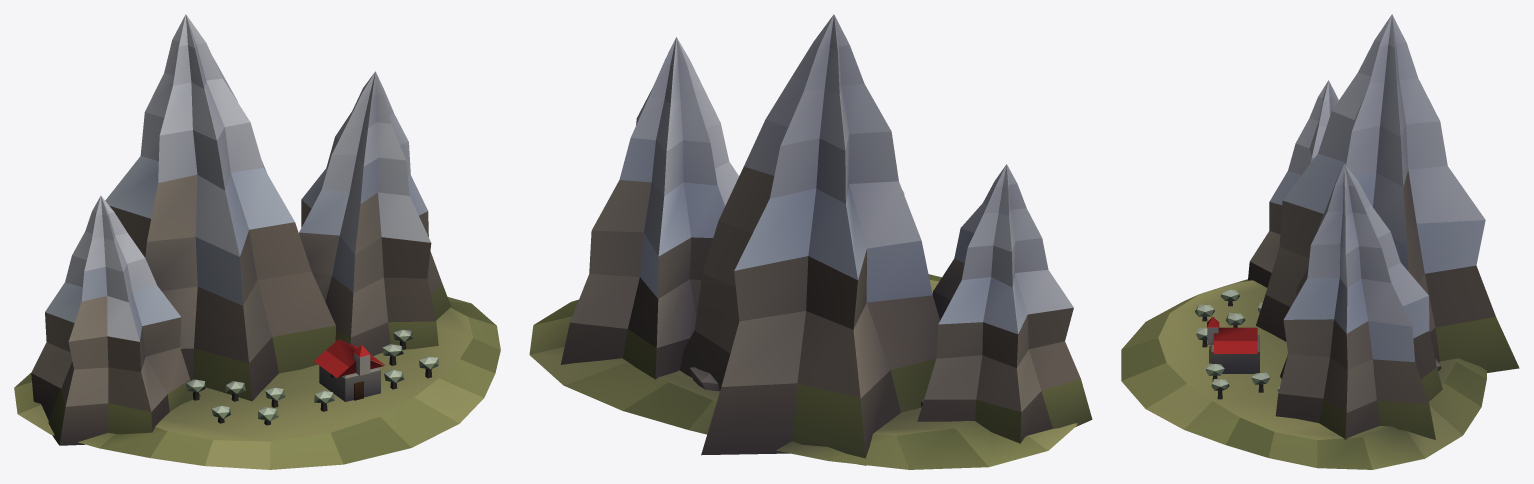
File: andes_merida.glb
3 views of the same model, side by side, from view 1: azimuth 30°, elevation 25°; view 2: azimuth 150°, elevation 25°; view 3: azimuth 270°, elevation 25° (orthographic). The views are drawn at different scales.
Visible parts, largest first — view 1: pico_bolivar, paramo, pico_humboldt, pico_bonpland, capilla, frailejones; view 2: pico_bolivar, pico_humboldt, pico_bonpland, paramo; view 3: pico_bolivar, pico_humboldt, paramo, pico_bonpland, capilla, frailejones.
Part boxes in pixels (left/top/right/bottom): pico_bolivar: left=105, top=14, right=335, bottom=401; paramo: left=14, top=297, right=500, bottom=469; pico_humboldt: left=299, top=71, right=451, bottom=355; pico_bonpland: left=31, top=195, right=200, bottom=445; capilla: left=314, top=339, right=385, bottom=401; frailejones: left=186, top=329, right=438, bottom=425; pico_bolivar: left=680, top=14, right=939, bottom=465; pico_humboldt: left=560, top=37, right=738, bottom=379; pico_bonpland: left=917, top=164, right=1092, bottom=443; paramo: left=529, top=274, right=1077, bottom=469; pico_bolivar: left=1256, top=14, right=1519, bottom=372; pico_humboldt: left=1275, top=164, right=1442, bottom=440; paramo: left=1121, top=279, right=1486, bottom=469; pico_bonpland: left=1248, top=80, right=1338, bottom=287; capilla: left=1207, top=317, right=1259, bottom=373; frailejones: left=1195, top=289, right=1279, bottom=399.
Bounding box in the file's own units: 96.66 × 71.5 × 77.87.
